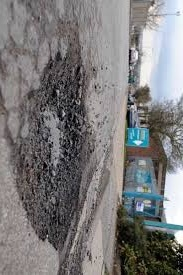pothole: (14, 34, 93, 249)
